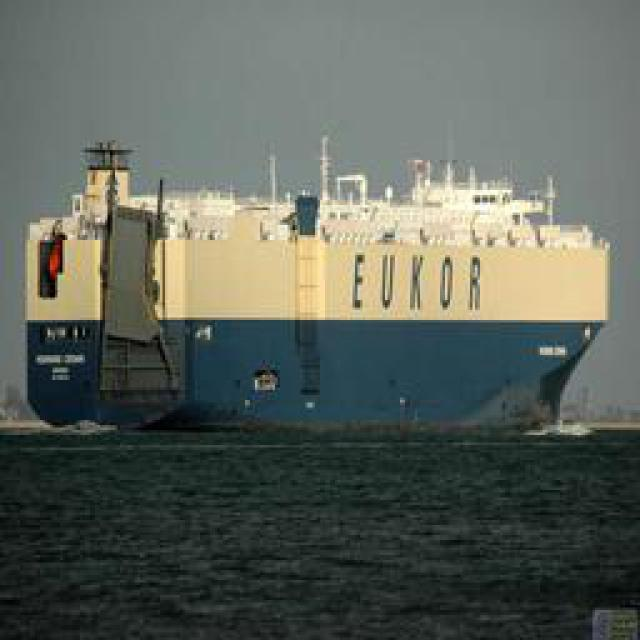Ship: (20, 159, 623, 442)
